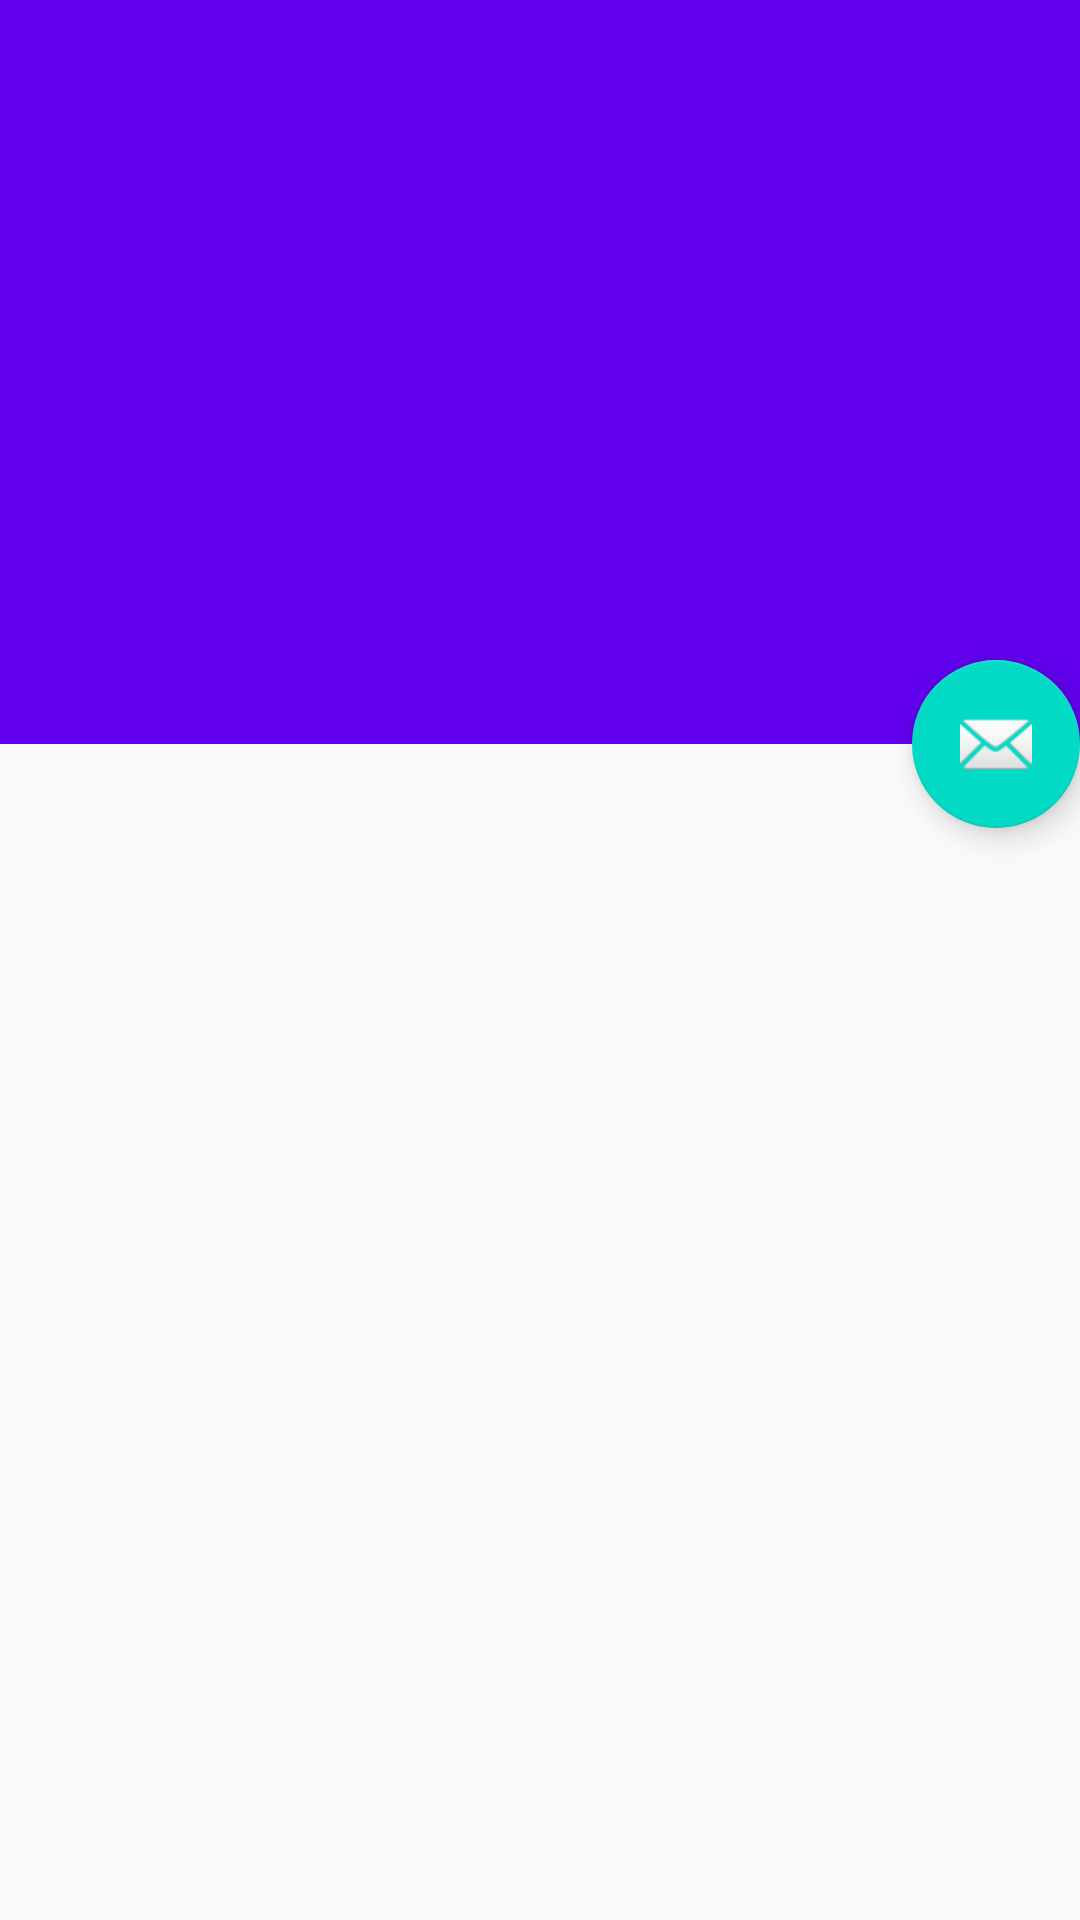

Screen size 1080 × 1920. Icon name, then its center in pixels as (x,y):
email: (996,744)
